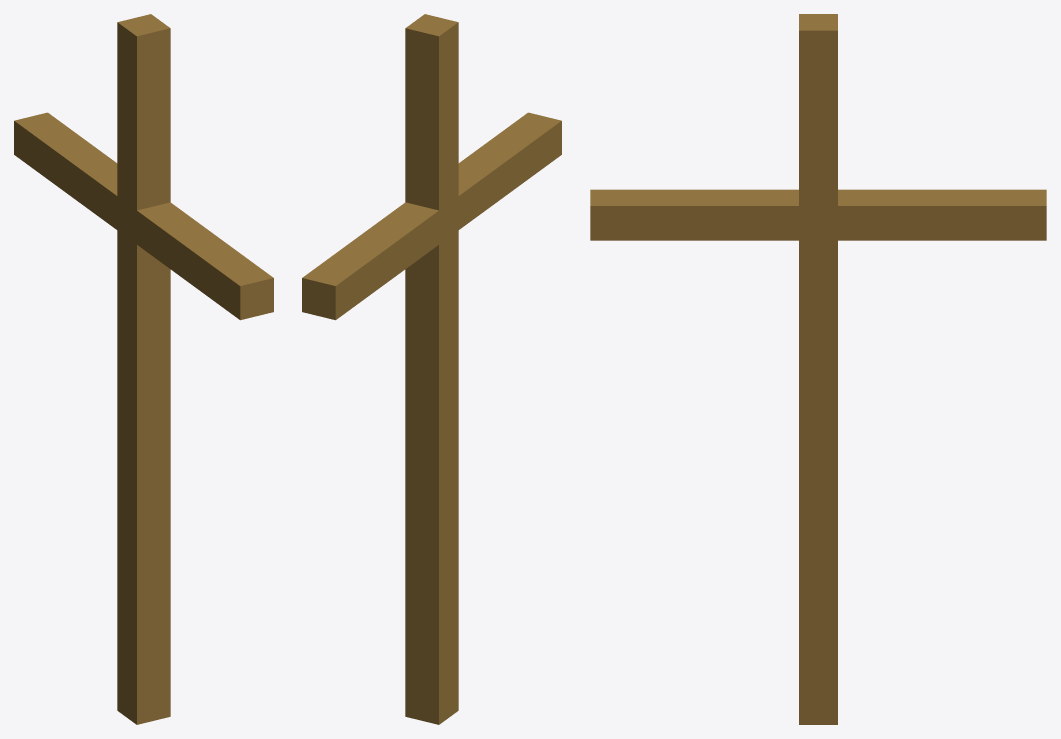
Rendered from cross.fbx.
The picture shows the model from 3 angles, left to right: view 1: azimuth 30°, elevation 25°; view 2: azimuth 150°, elevation 25°; view 3: azimuth 270°, elevation 25°; orthographic projection.
Visible parts, largest first — view 1: cross; view 2: cross; view 3: cross.
Part boxes in pixels (x1,y1,x2,y2): cross: [14, 14, 273, 724]; cross: [302, 14, 561, 724]; cross: [590, 14, 1046, 724].
Size of the model in its own units: 75.21 by 1471 by 875.
